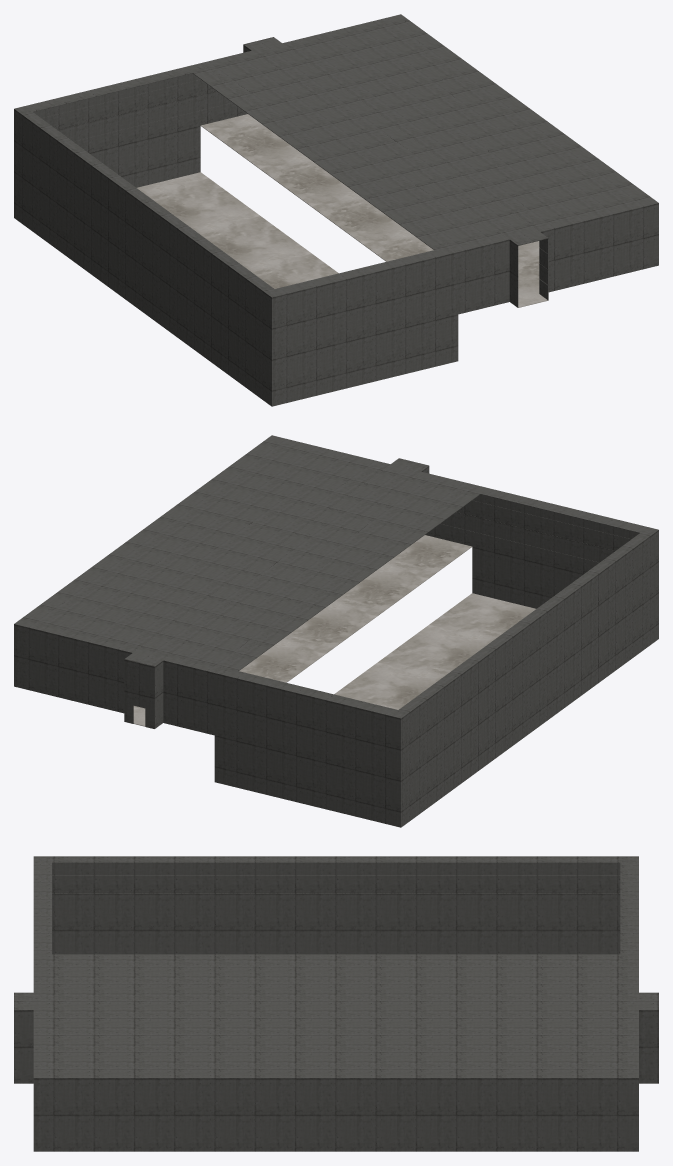
The model's file is chamber4.gltf.
3 views of the same model, one above another, from view 1: azimuth 30°, elevation 25°; view 2: azimuth 150°, elevation 25°; view 3: azimuth 270°, elevation 25° (orthographic). The views are drawn at different scales.
Parts seen in each view (by area): view 1: chamber4; view 2: chamber4; view 3: chamber4.
Boxes of the visible parts, box(x1,y1,x2,y2) form: chamber4: box(14, 14, 658, 406); chamber4: box(14, 435, 658, 827); chamber4: box(14, 856, 658, 1151).
Size of the model in its own units: 26.05 by 7.03 by 32.03.
Materials: 2 (2 with a texture image).
